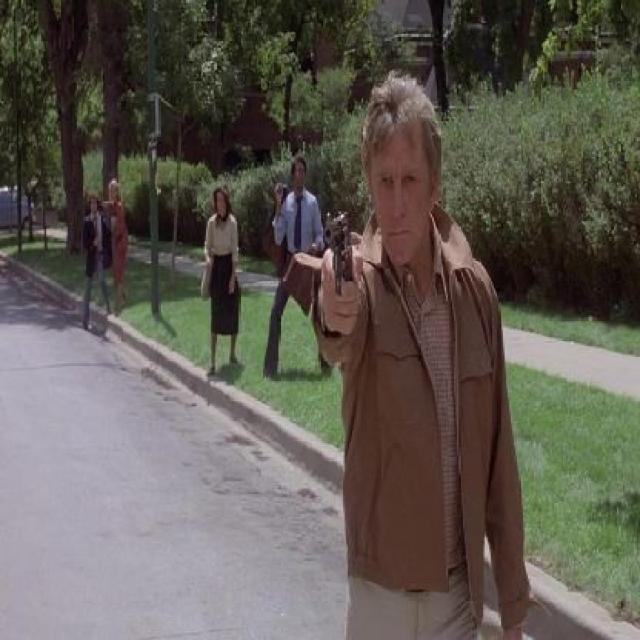gun: (317, 187, 359, 313)
